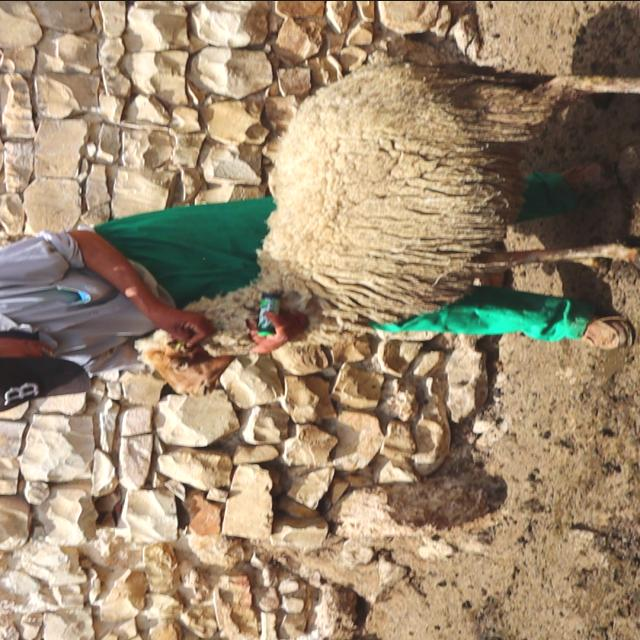Score_3: (142, 56, 639, 394)
